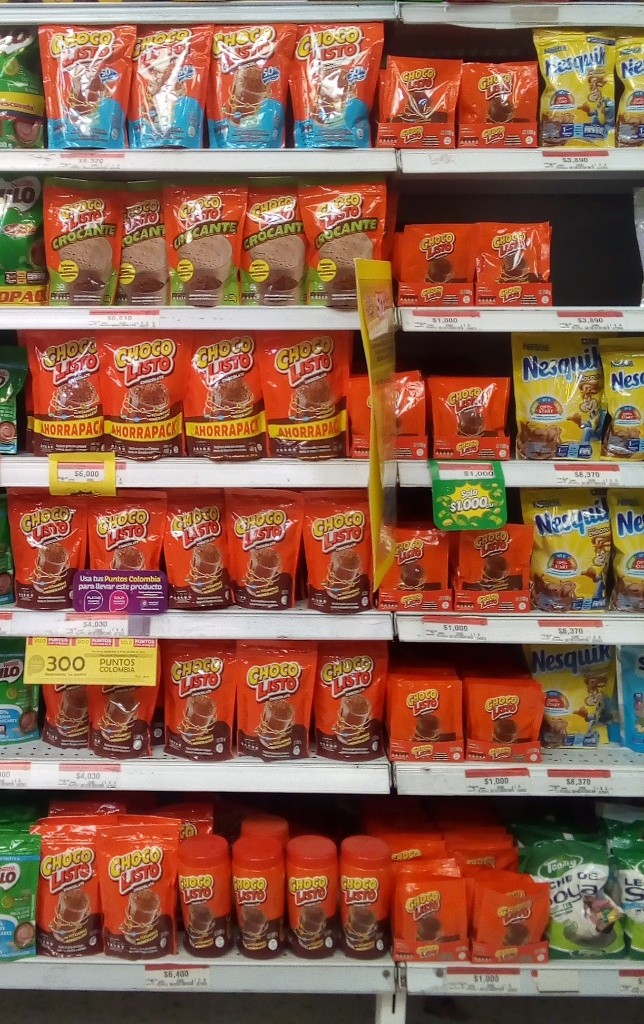COL0170102DYP25000: (299, 178, 385, 308)
COL0170103DYP20000: (318, 640, 388, 760)
COL0170103DYP36000: (96, 824, 179, 960)
COL0170103DYP40000: (256, 329, 357, 463)
COL0170103SOB02000: (459, 62, 541, 124)
COL0170103TRR30000: (330, 829, 392, 965)
COL0170104DYP20000: (292, 22, 385, 145)
COL0170205DYP20000: (1, 641, 40, 748)
COL0170303DYP20000: (613, 28, 643, 146)
